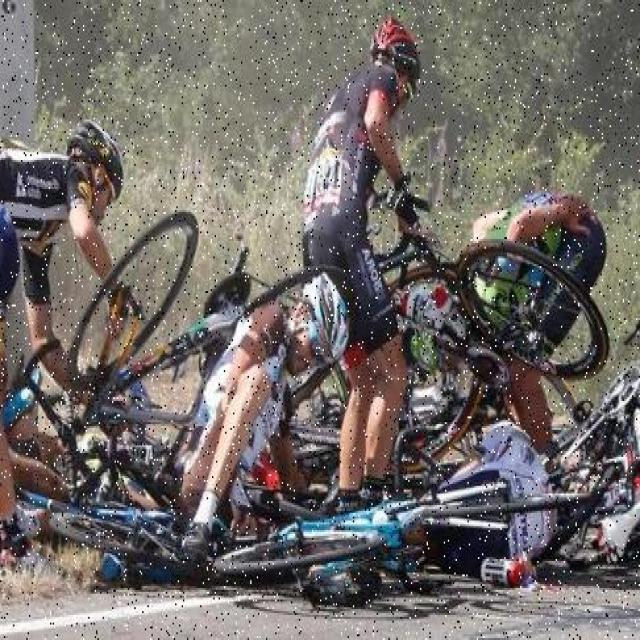fall: (180, 288, 354, 560)
